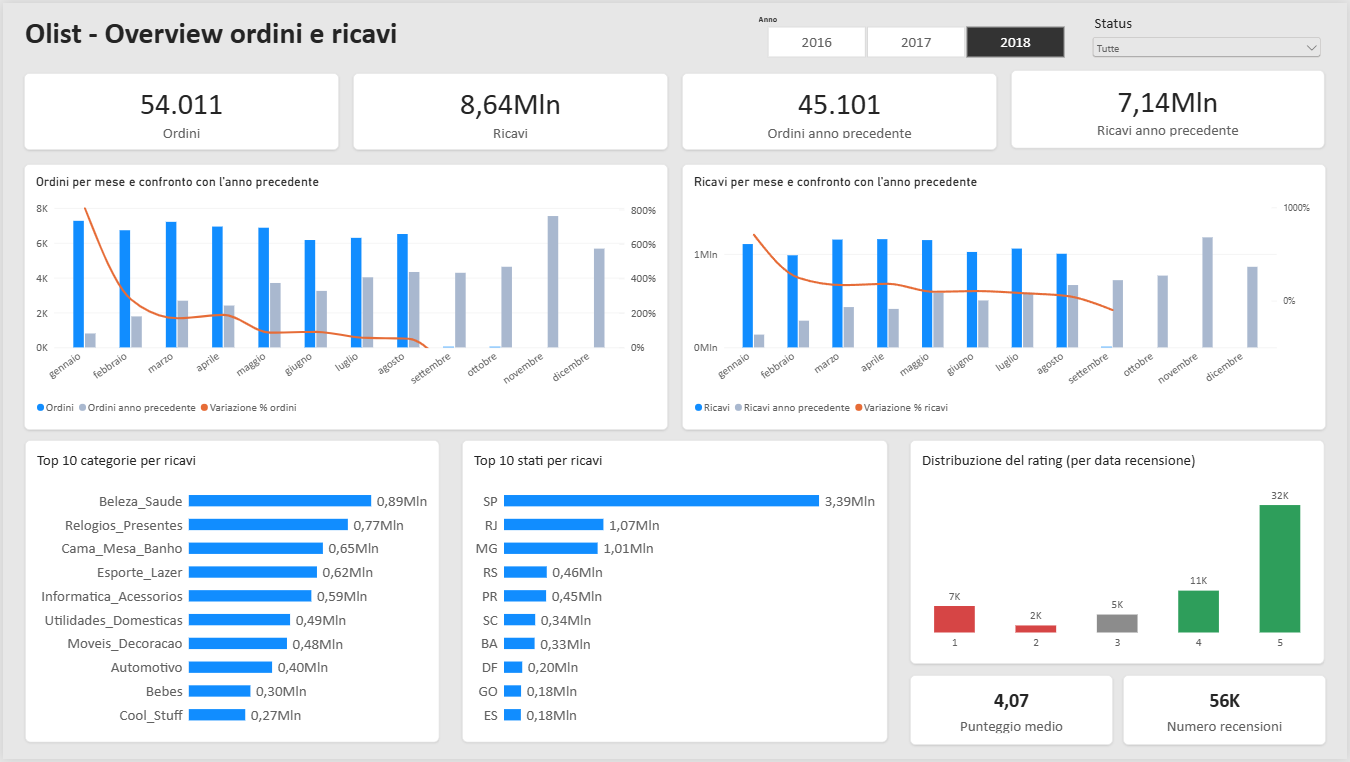

The dashboard page shown, as its layout file describes it:
{"tool":"powerbi","page":{"name":"Overview","canvas":[1920,1080],"ordinal":0},"visuals":[{"type":"textbox","box":[32,16,544,64],"z":0},{"type":"slicer","fields":{"Values":["Calendario.Anno"]},"box":[1072,16,464,64],"z":1000},{"type":"slicer","fields":{"Values":["Orders.order_status"]},"box":[1552,16,336,64],"z":2000},{"type":"card","fields":{"Values":["Misure.Ordini"]},"box":[30,100,450,110],"z":3000},{"type":"card","fields":{"Values":["Misure.Ricavi"]},"box":[500,100,450,110],"z":4000},{"type":"card","fields":{"Values":["Misure.Ordini anno precedente"]},"box":[970,100,450,110],"z":5000},{"type":"card","fields":{"Values":["Misure.Ricavi anno precedente"]},"box":[1440,96,448,112],"z":6000},{"type":"lineClusteredColumnComboChart","title":"Ordini per mese e confronto con l''anno precedente","fields":{"Category":["Calendario.Mese Nome"],"Y":["Misure.Ordini","Misure.Ordini anno precedente"],"Y2":["Misure.Variazione % ordini"]},"box":[30,230,920,380],"z":7000},{"type":"lineClusteredColumnComboChart","title":"Ricavi per mese e confronto con l''anno precedente","fields":{"Category":["Calendario.Mese Nome"],"Y":["Misure.Ricavi","Misure.Ricavi anno precedente"],"Y2":["Misure.Variazione % ricavi"]},"box":[970,230,920,380],"z":8000},{"type":"columnChart","title":"Distribuzione del rating (per data recensione)","fields":{"Category":["Review.review_score"],"Y":["Misure.Numero recensioni"]},"box":[1296,624,592,320],"z":9000},{"type":"card","fields":{"Values":["Misure.Numero recensioni"]},"box":[1600,960,290,100],"z":10000},{"type":"card","fields":{"Values":["Misure.Punteggio medio"]},"box":[1296,960,290,100],"z":11000},{"type":"clusteredBarChart","title":"Top 10 categorie per ricavi","fields":{"Category":["Products.product_category_name"],"Y":["Misure.Ricavi"]},"box":[32,624,592,432],"z":12000},{"type":"clusteredBarChart","title":"Top 10 stati per ricavi","fields":{"Category":["Customers.customer_state"],"Y":["Misure.Ricavi"]},"box":[656,624,608,432],"z":13000}]}

Visuals, with their boxes in screenshot pixels (x1, y1, x2, y2), scaled from the page's 1920x1080 canvas onto the 1350x762 screenshot:
textbox: select_region(22, 11, 405, 56)
slicer - Calendario.Anno: select_region(754, 11, 1080, 56)
slicer - Orders.order_status: select_region(1091, 11, 1328, 56)
card - Misure.Ordini: select_region(21, 71, 338, 148)
card - Misure.Ricavi: select_region(352, 71, 668, 148)
card - Misure.Ordini anno precedente: select_region(682, 71, 998, 148)
card - Misure.Ricavi anno precedente: select_region(1012, 68, 1328, 147)
"Ordini per mese e confronto con l''anno precedente" lineClusteredColumnComboChart: select_region(21, 162, 668, 430)
"Ricavi per mese e confronto con l''anno precedente" lineClusteredColumnComboChart: select_region(682, 162, 1329, 430)
"Distribuzione del rating (per data recensione)" columnChart: select_region(911, 440, 1328, 666)
card - Misure.Numero recensioni: select_region(1125, 677, 1329, 748)
card - Misure.Punteggio medio: select_region(911, 677, 1115, 748)
"Top 10 categorie per ricavi" clusteredBarChart: select_region(22, 440, 439, 745)
"Top 10 stati per ricavi" clusteredBarChart: select_region(461, 440, 889, 745)
